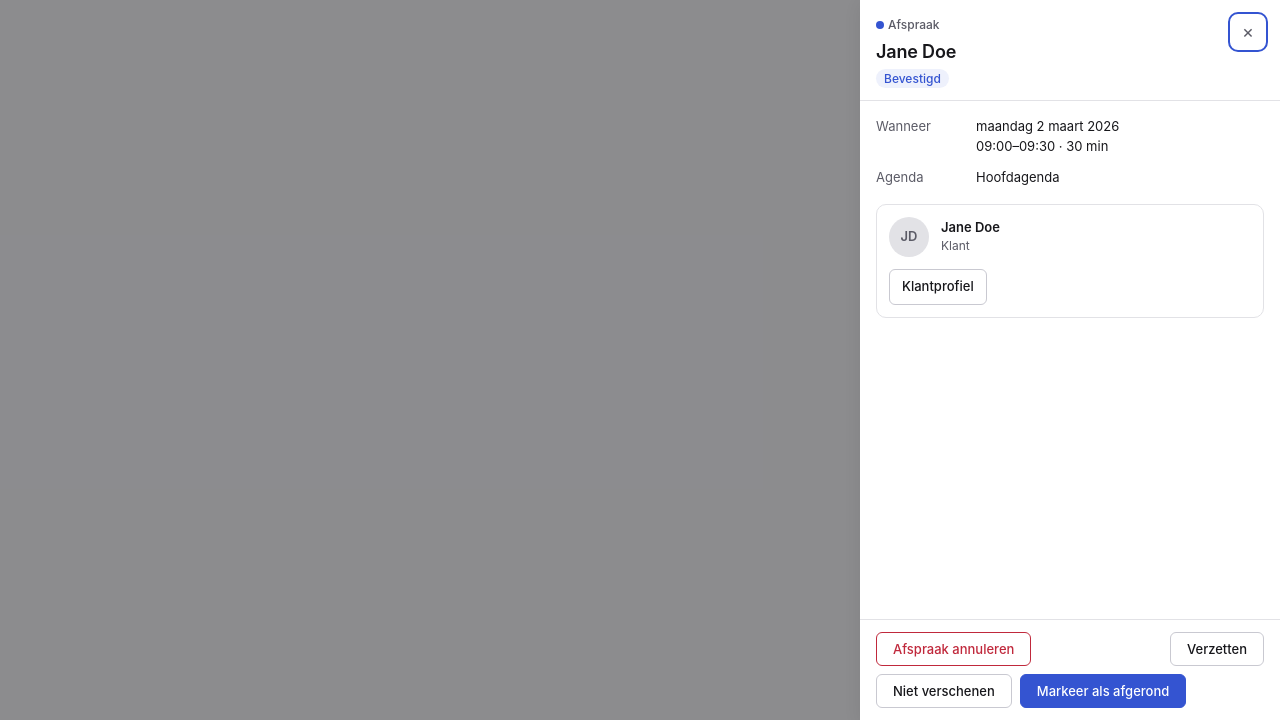
AppointmentDetailPanel › surfaces the backend's own cancellation error message verbatim
Click the button "Afspraak annuleren".
click(954, 649)  # box 876,632 -> 1031,666
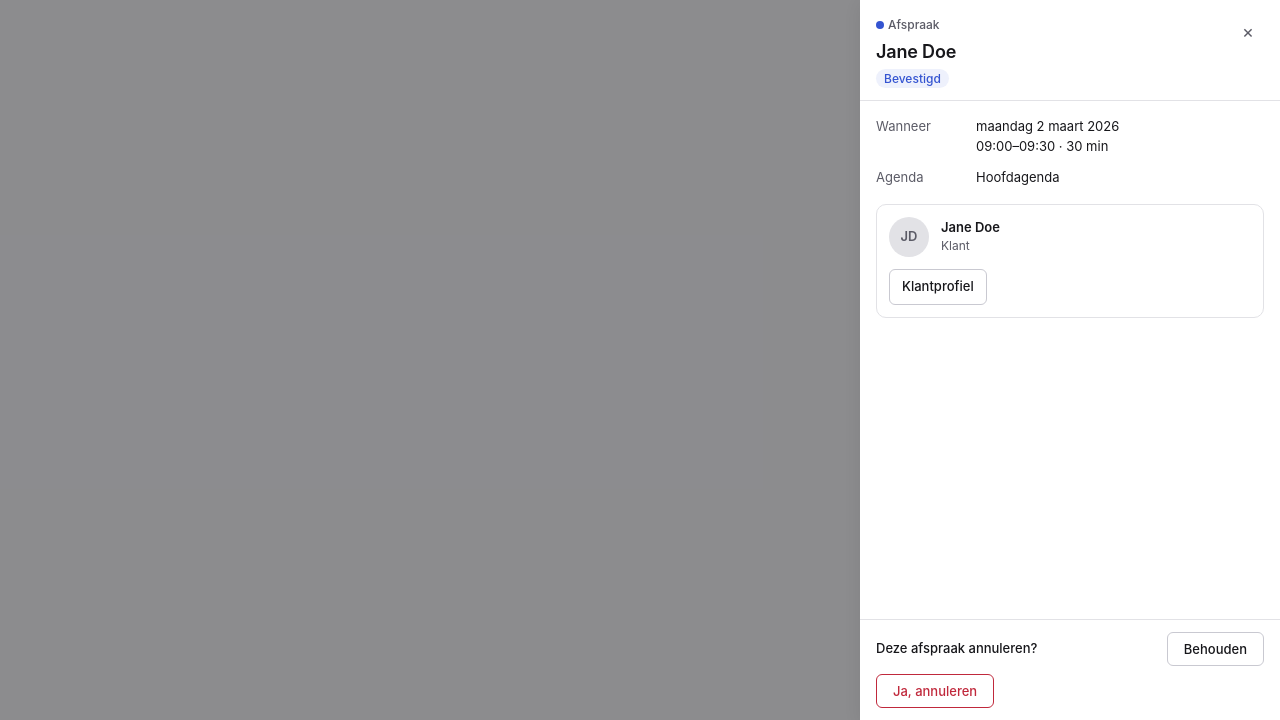
Click the button "Ja, annuleren".
click(935, 691)  # box 876,674 -> 994,708
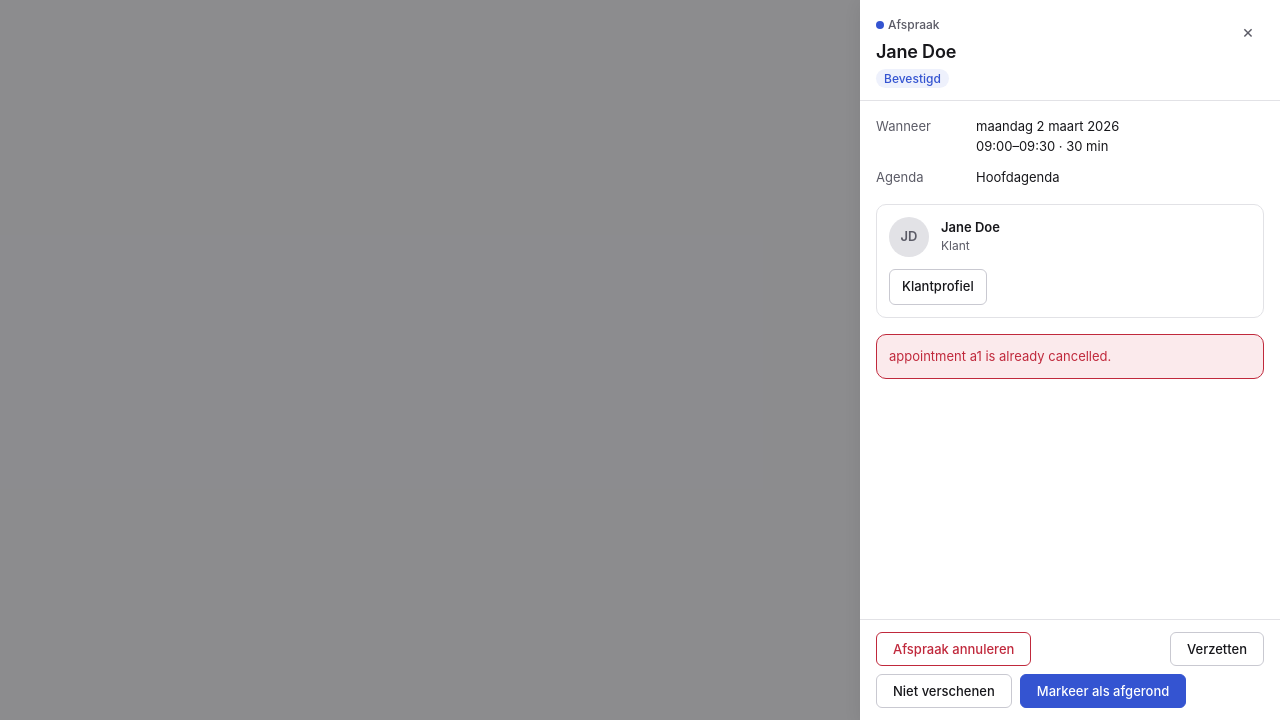
Check: the text "appointment a1 is already cancelled." is shown, box 889,348 -> 1111,364
